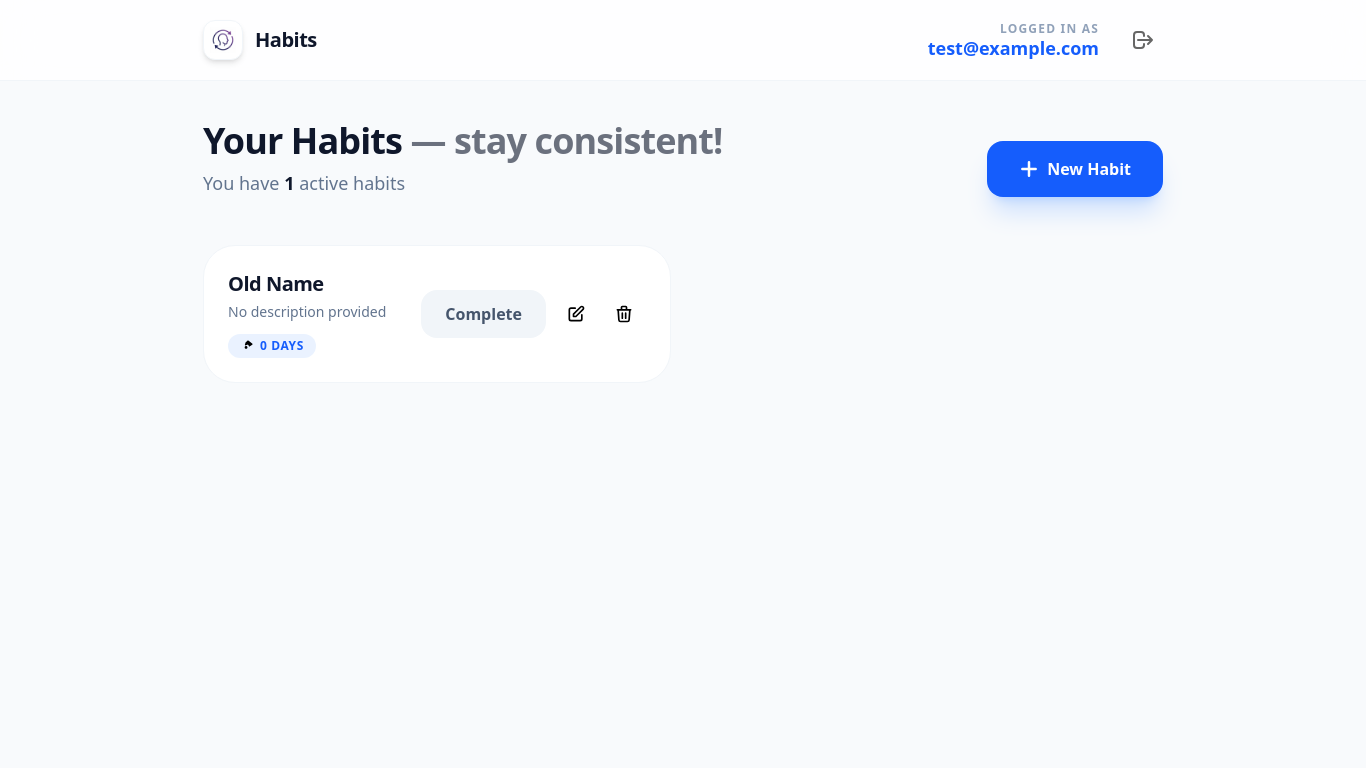
Scenario: habit form › edits an existing habit and preserves immutable fields
Step 1. Click the button with test id "habit-edit-old-name" → click(576, 314), box [554,292,598,336]
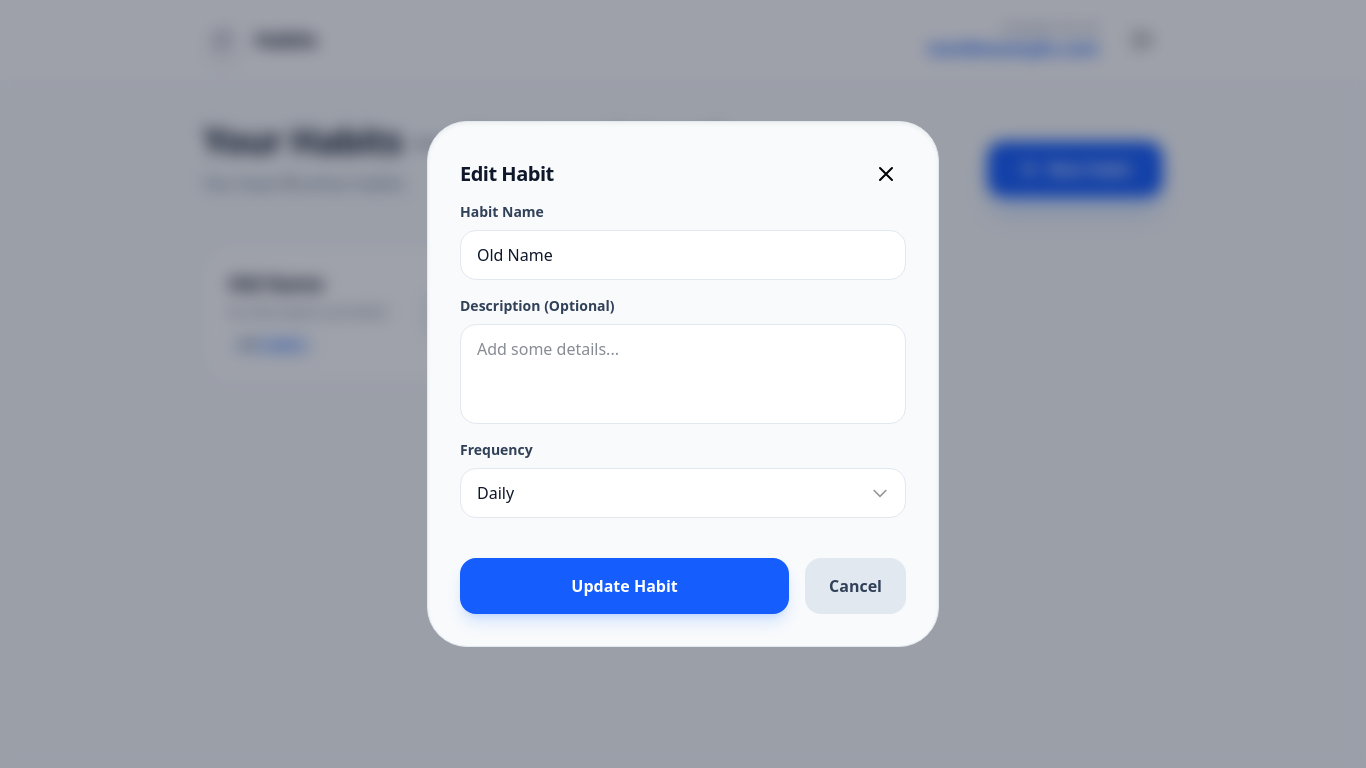
Step 2. Replace the text in the field with test id "habit-name-input" with "New Name" → (683, 255), box [460,230,906,280]
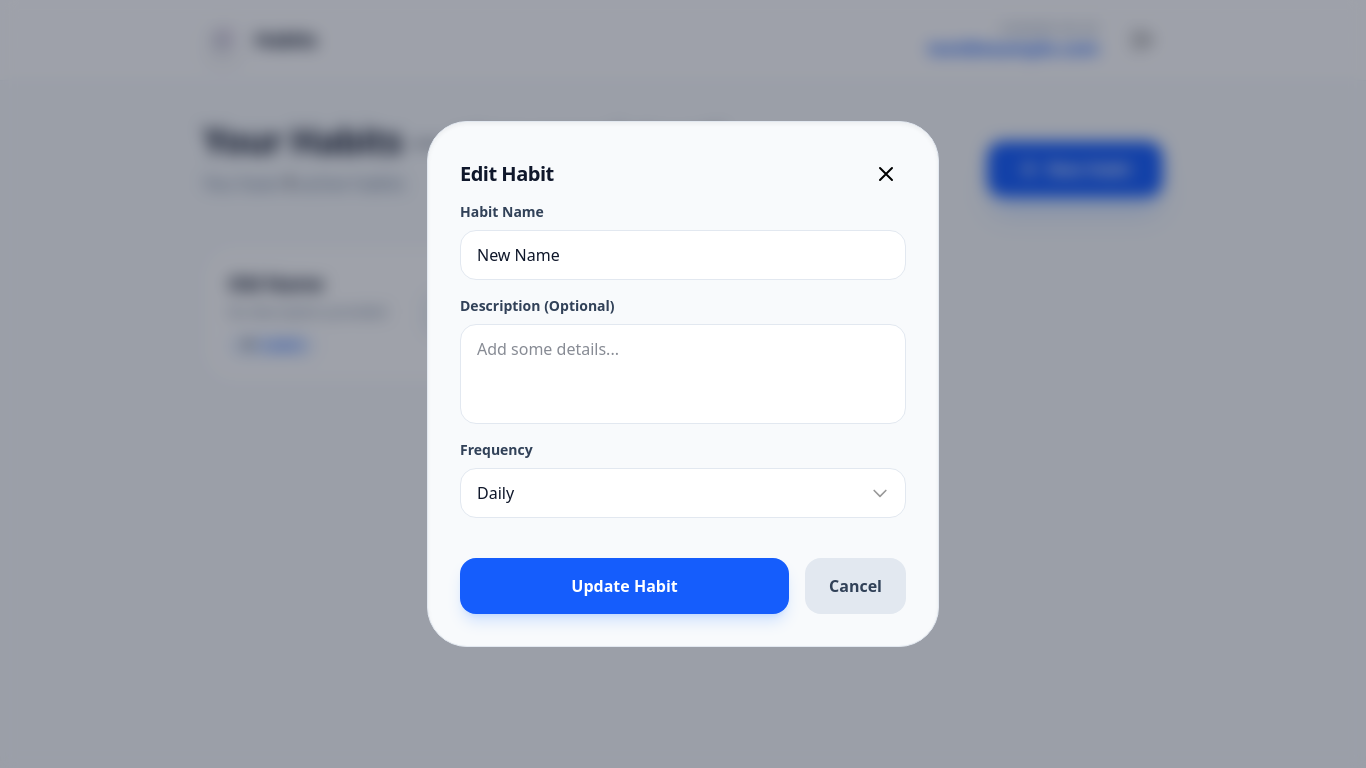
Step 3. Click the button with test id "habit-save-button" → click(625, 586), box [460,558,789,614]
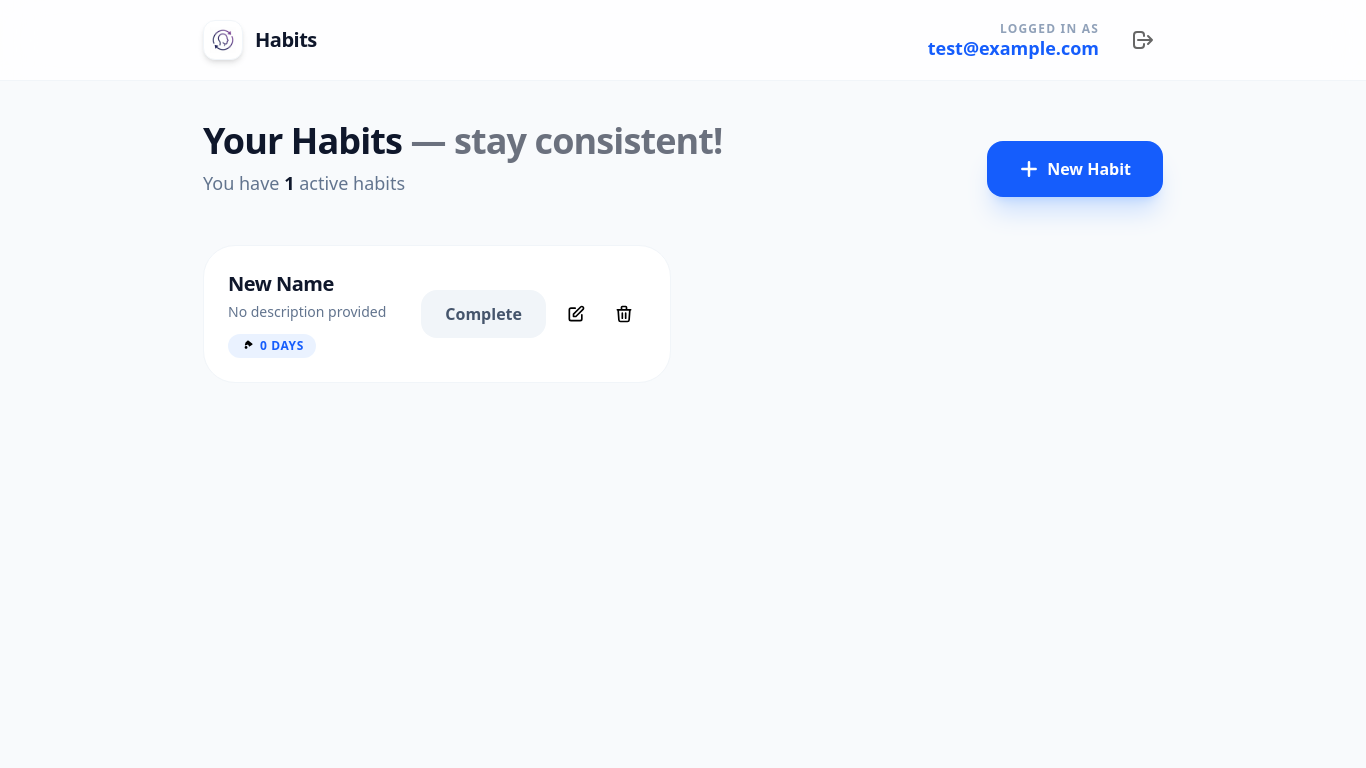
Now the heading "New Name" is shown, box [228,270,334,298]
